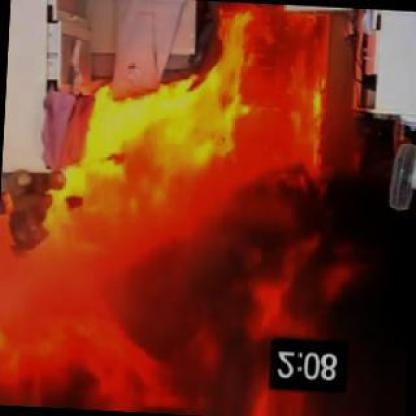Fire: (43, 64, 326, 410)
